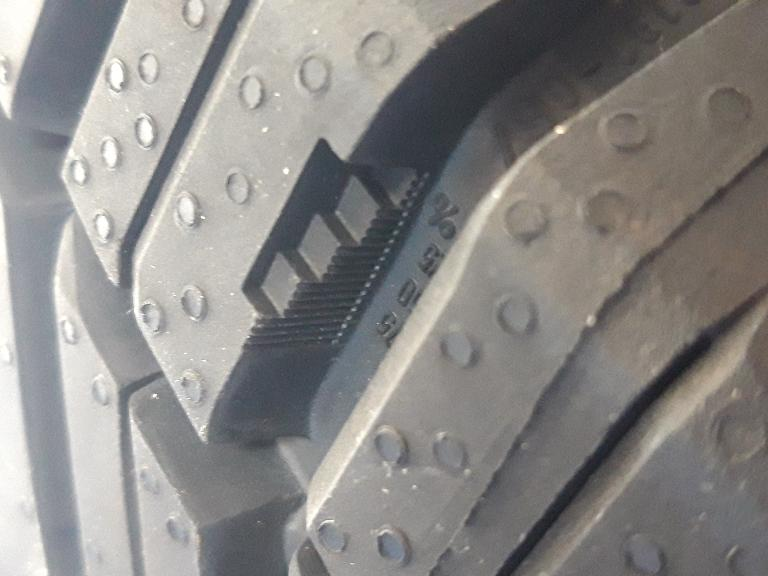temoin:100: (226, 131, 441, 360)
